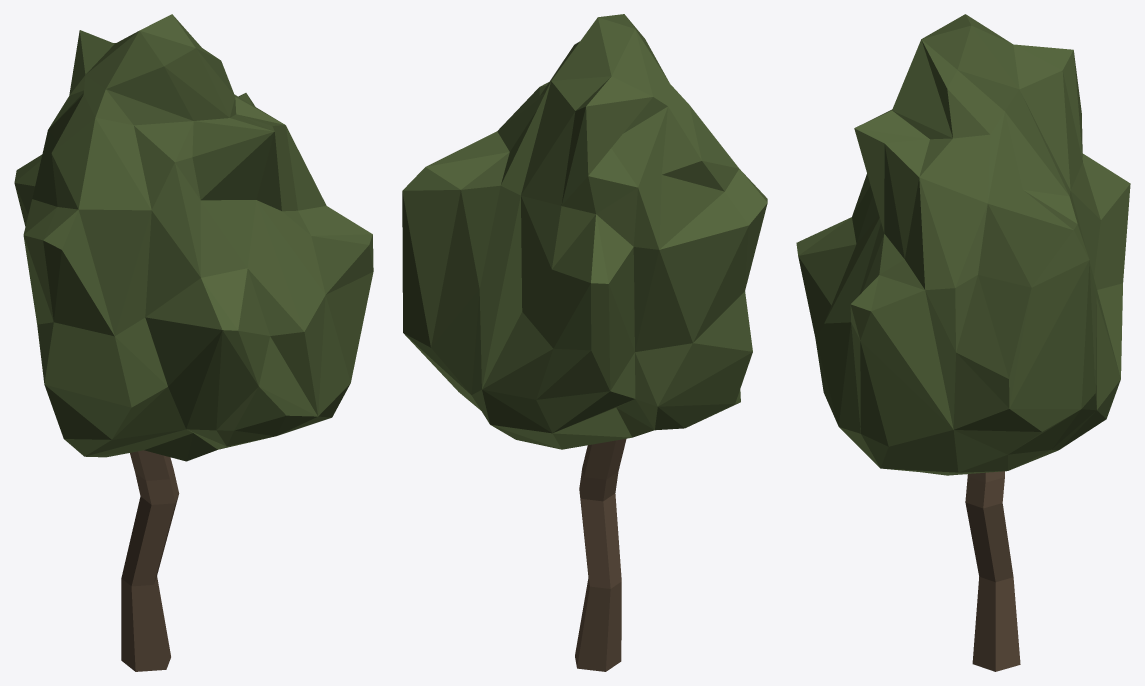
Rendered from Tree_056.fbx.
3 renders of one model, left to right at view 1: azimuth 30°, elevation 25°; view 2: azimuth 150°, elevation 25°; view 3: azimuth 270°, elevation 25°, orthographic. The views are drawn at different scales.
Visible parts, largest first — view 1: Tree_056; view 2: Tree_056; view 3: Tree_056.
Part boxes in pixels (x1,y1,x2,y2): Tree_056: [14, 14, 373, 671]; Tree_056: [402, 14, 767, 671]; Tree_056: [796, 14, 1130, 671].
Bounding box in the file's own units: 0.7941 × 1.54 × 0.7274.
1 material, 1 textured.
